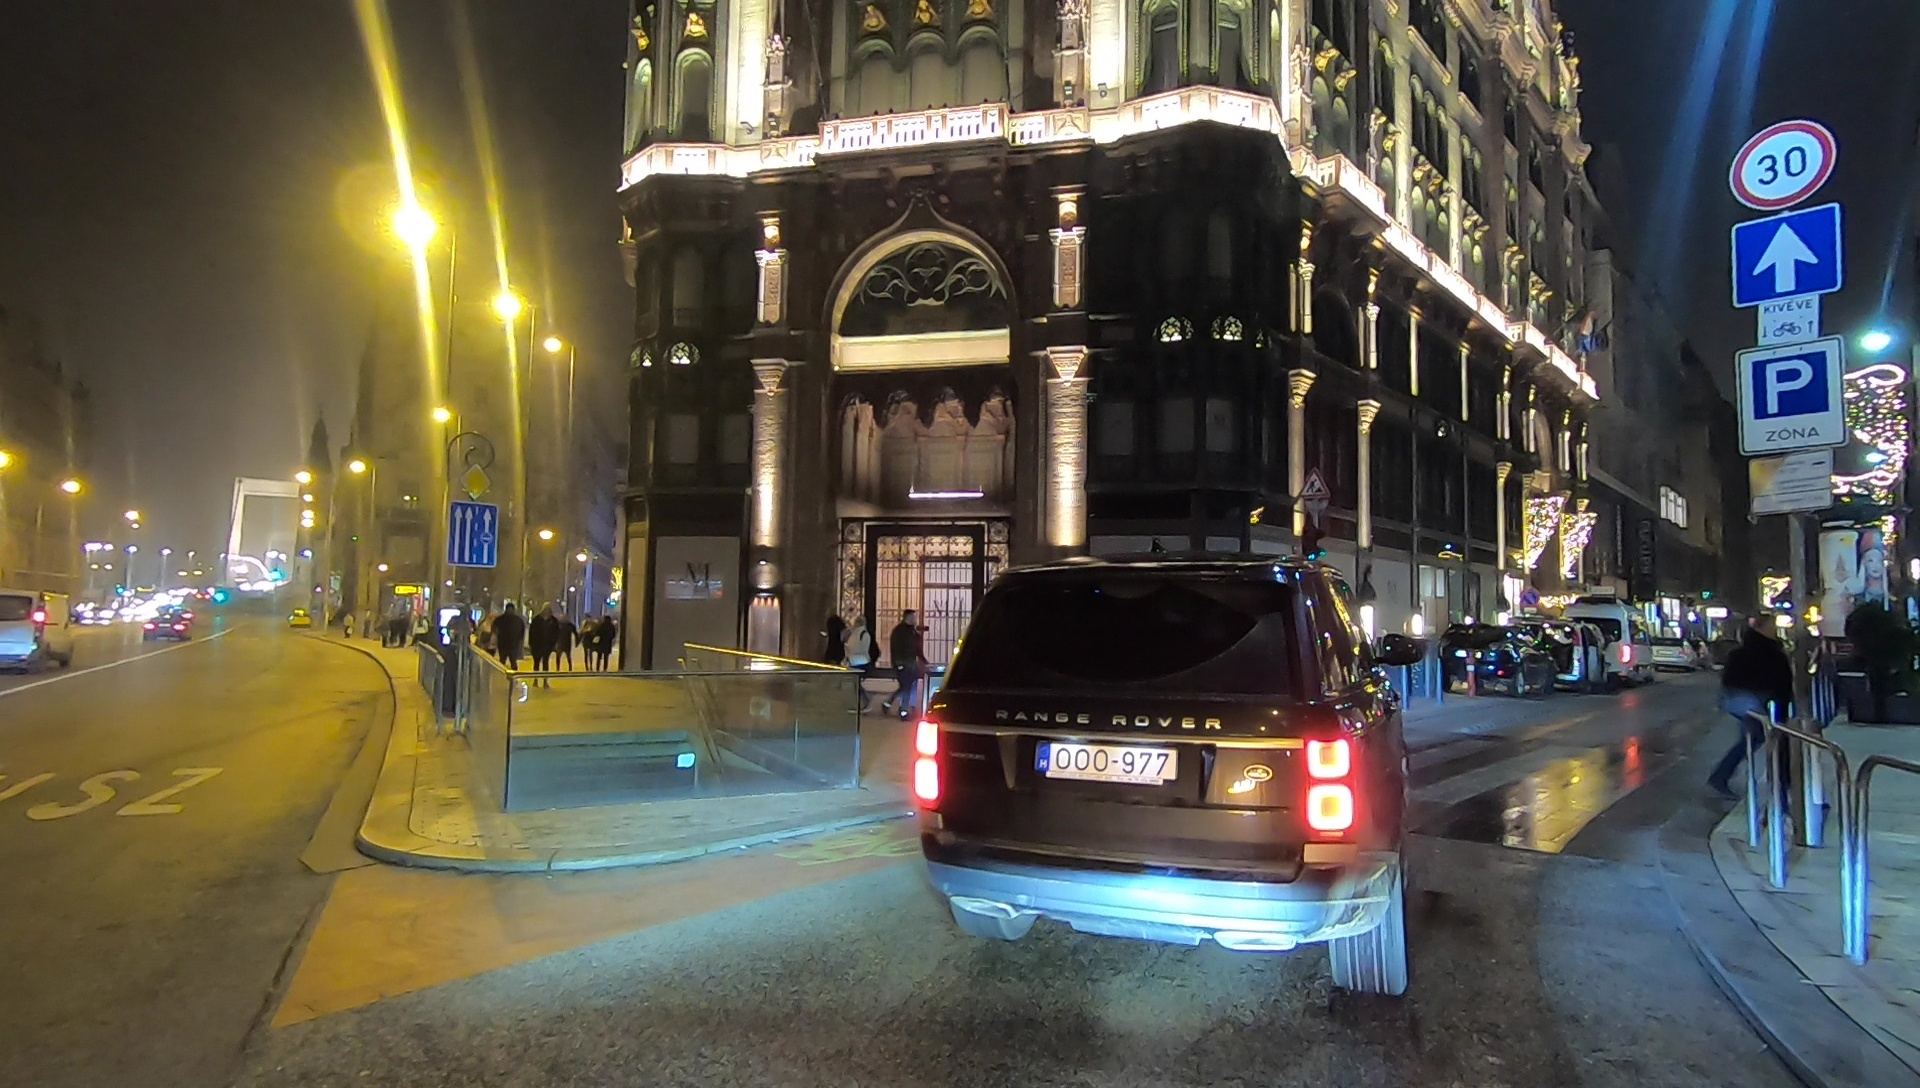person: (1708, 610, 1793, 806), (889, 609, 921, 717), (817, 606, 848, 703), (495, 603, 524, 694), (845, 615, 872, 712), (530, 603, 555, 692), (553, 611, 577, 678), (595, 613, 618, 674), (577, 611, 597, 673)
